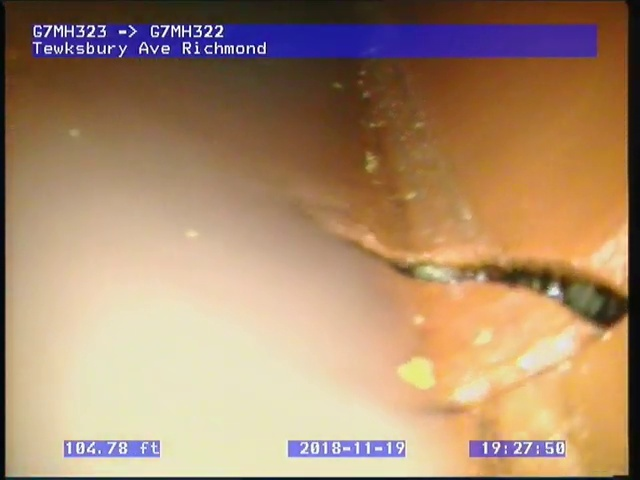crack: (344, 232, 629, 339)
